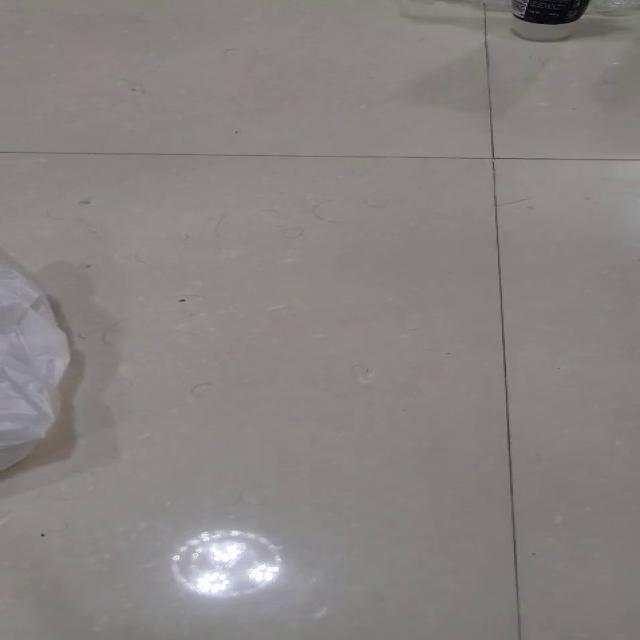plastic: (0, 249, 71, 472)
